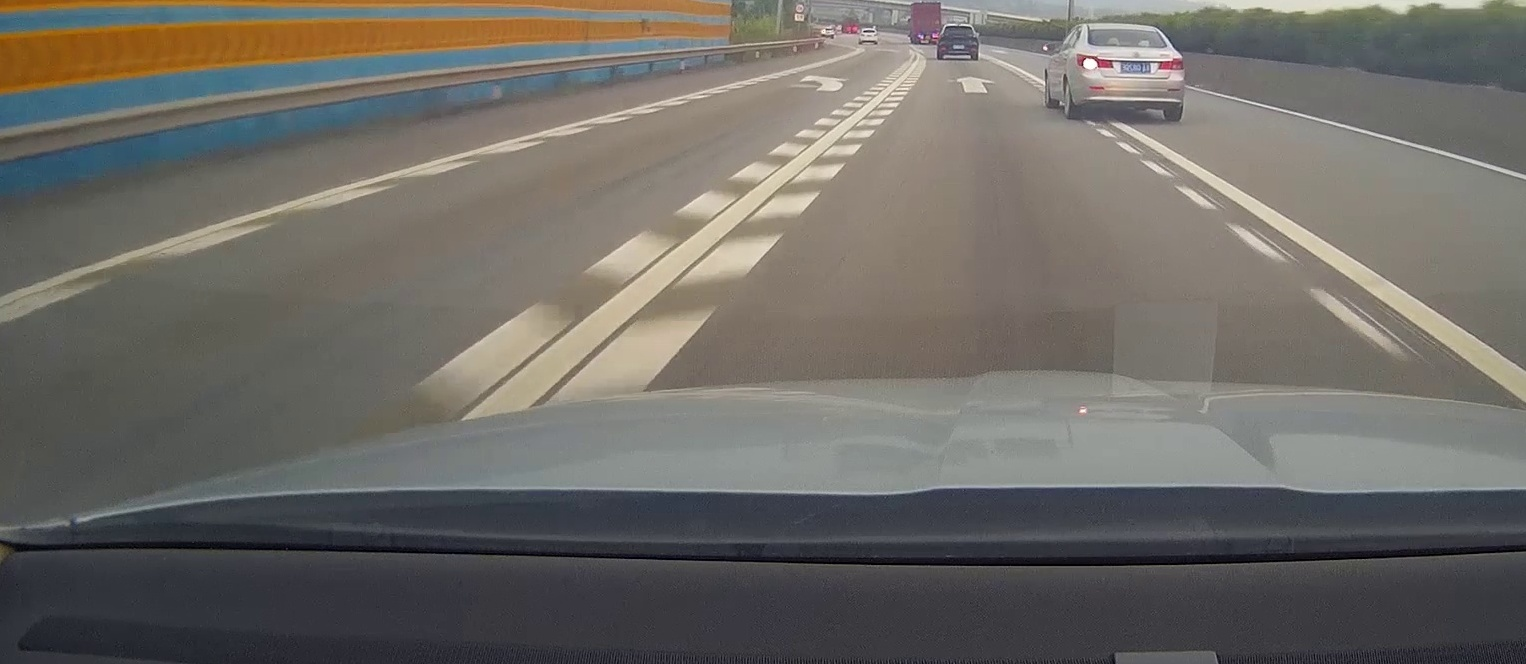L_light: (1076, 52, 1114, 69)
R_light: (1158, 56, 1184, 70)
T_light: (1119, 29, 1133, 33)
day-left: (1072, 22, 1186, 121)
